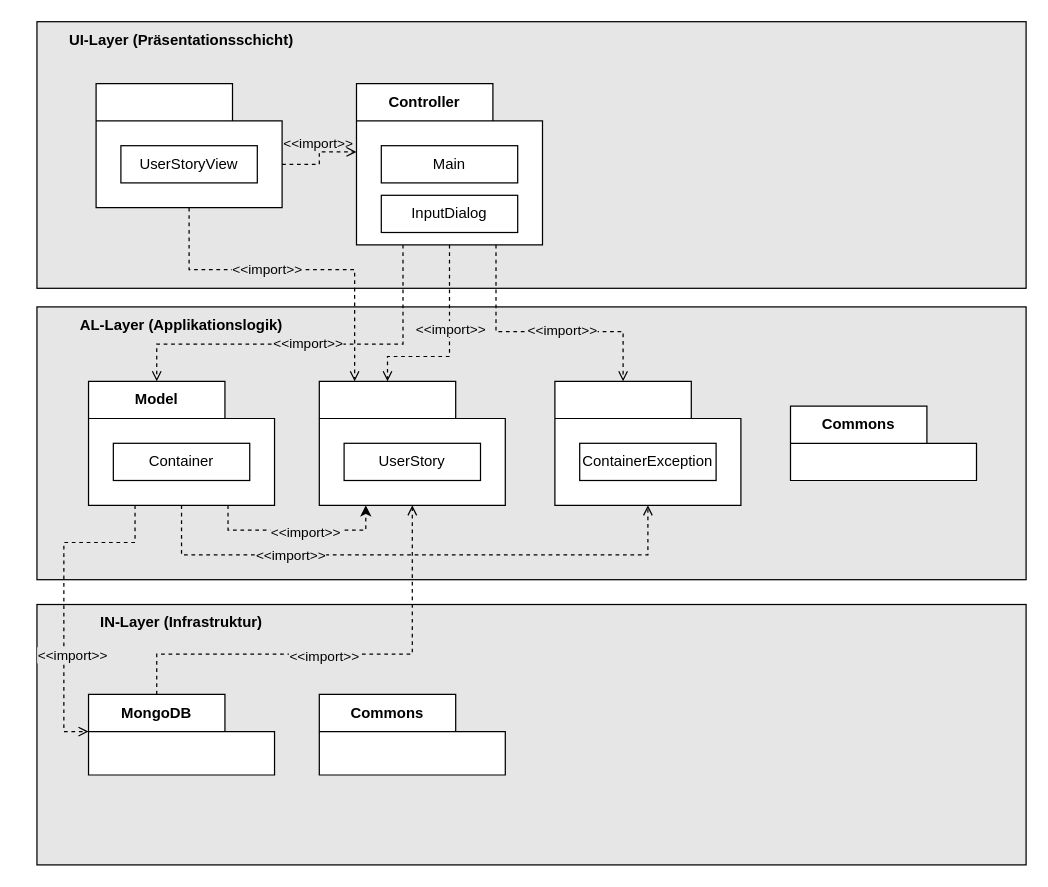
Some shapes in this 1048 by 887 pixel diagram are drawn without their labels. The centre of each missing label's shape, as x and y in pixels:
Entity: (x=411, y=442)
Exception: (x=647, y=442)
View: (x=188, y=145)
